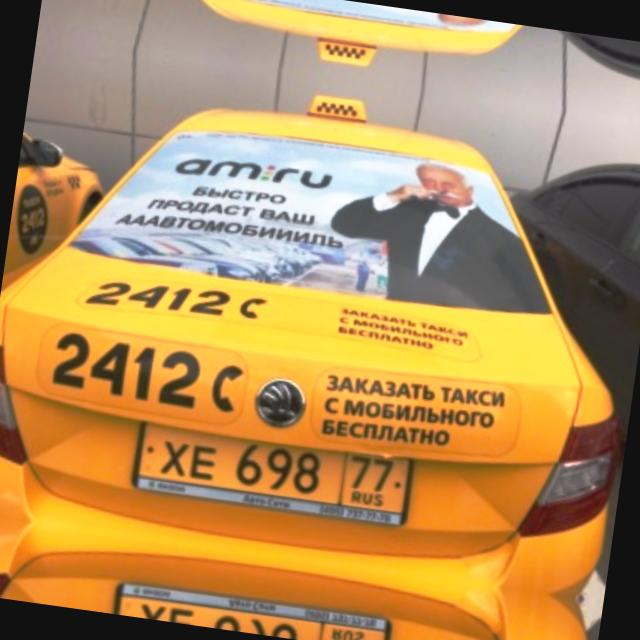taxi: (128, 416, 422, 534), (111, 575, 399, 640)
